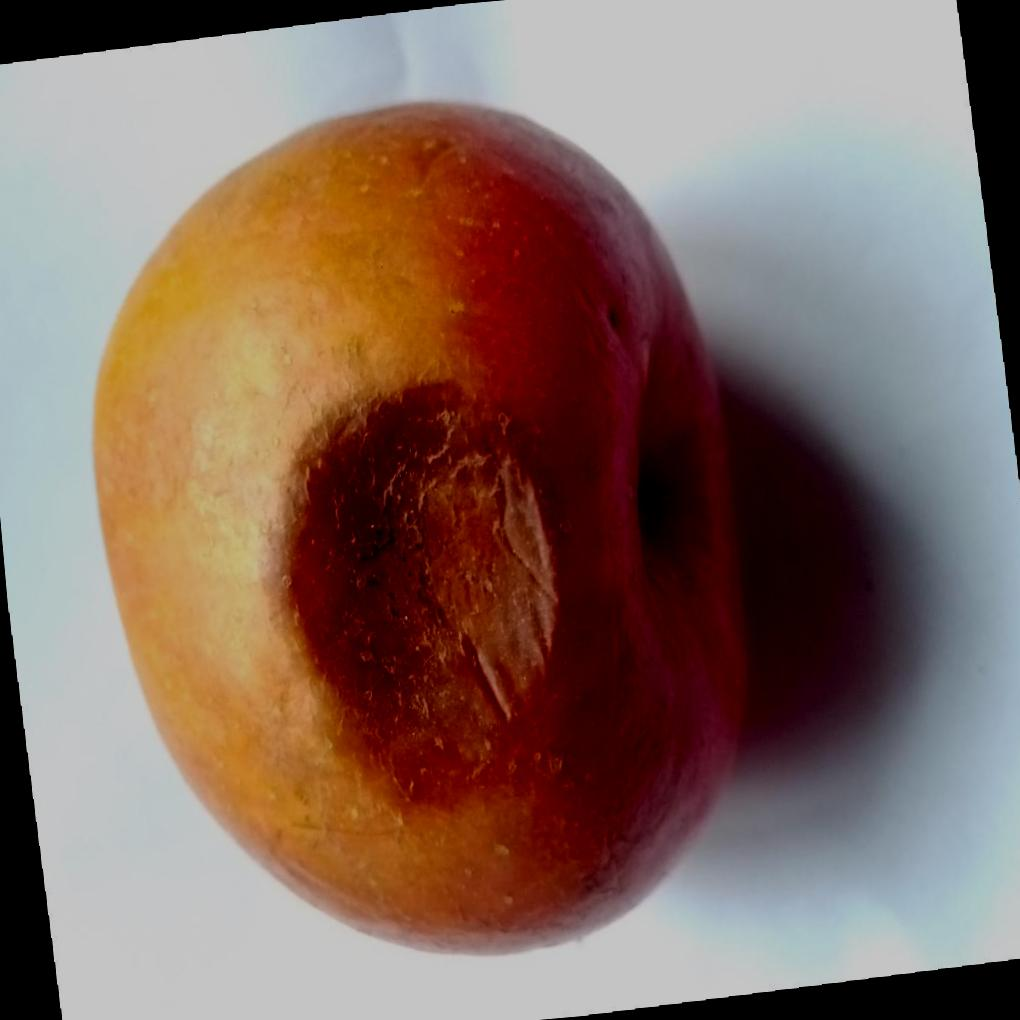FreshOrange: (86, 95, 752, 954)
